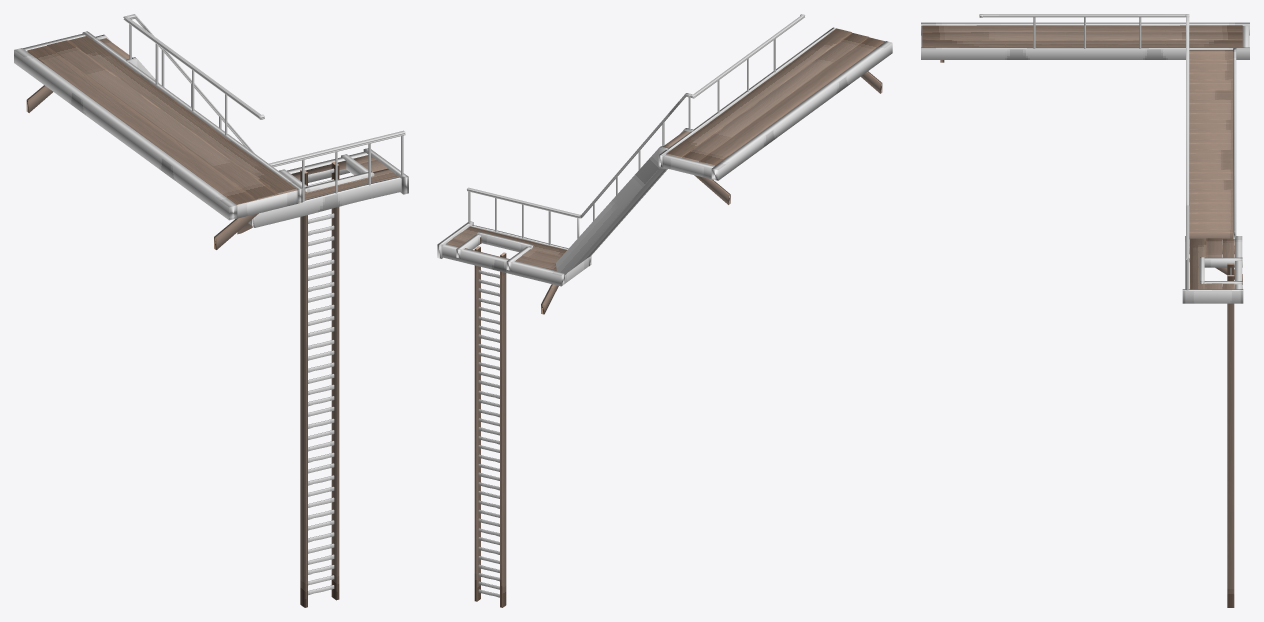
Rendered from SM_WalkwayLadder_Merged.fbx.
3 renders of one model, left to right at view 1: azimuth 30°, elevation 25°; view 2: azimuth 150°, elevation 25°; view 3: azimuth 270°, elevation 25°, orthographic. The views are drawn at different scales.
Visible parts, largest first — view 1: SM_WalkwayLadder_Merged; view 2: SM_WalkwayLadder_Merged; view 3: SM_WalkwayLadder_Merged.
Boxes of the visible parts, x1,y1,x2,y2 form: SM_WalkwayLadder_Merged: (14,14,408,607); SM_WalkwayLadder_Merged: (437,14,892,607); SM_WalkwayLadder_Merged: (921,14,1249,607).
Size of the model in its own units: 951 by 1010 by 1710.
